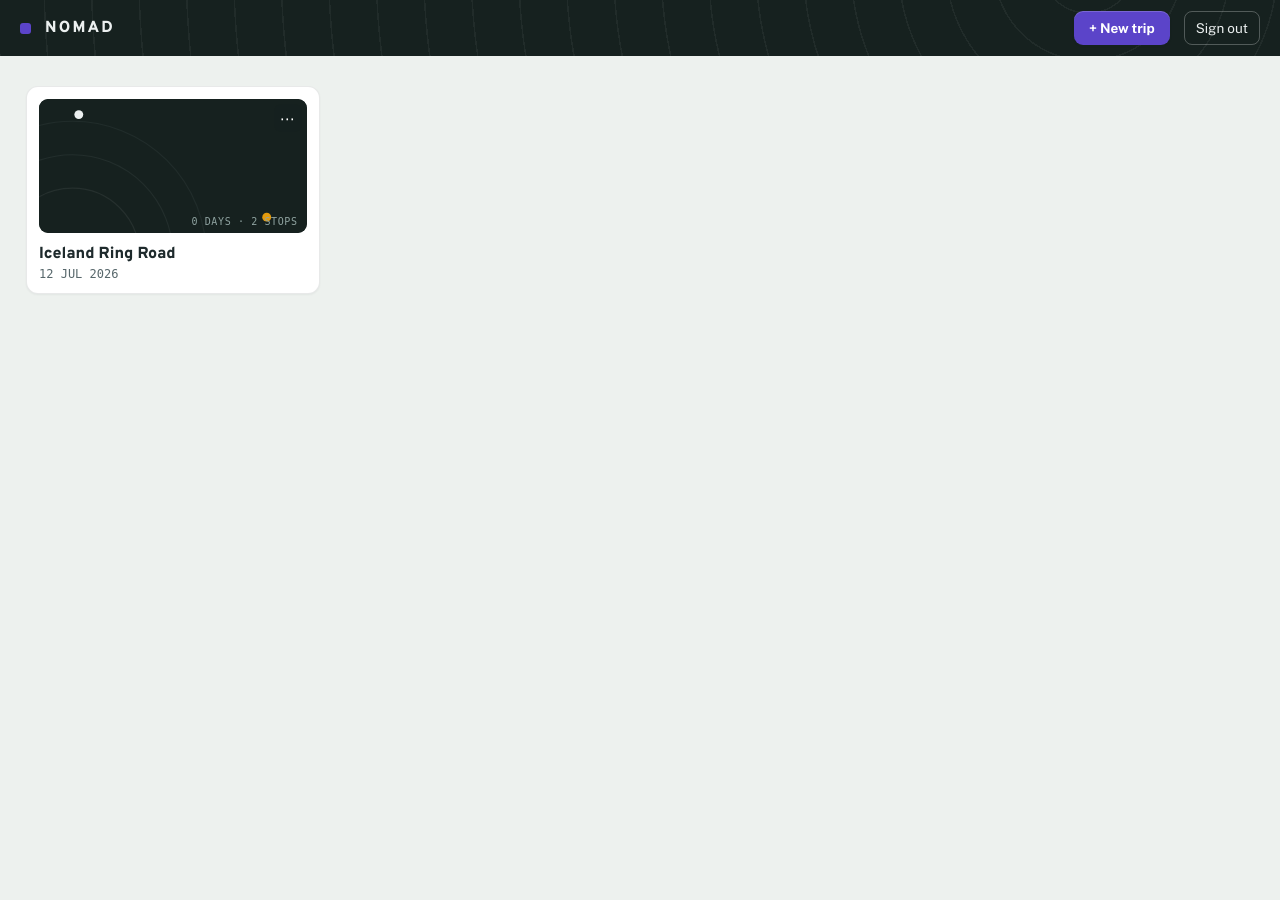
Scenario: TripList › cancel closes the dialog without deleting
This screenshot has width=1280, height=900.
Click the button named "Trip actions" at point(288, 118), box [274, 104, 302, 132]
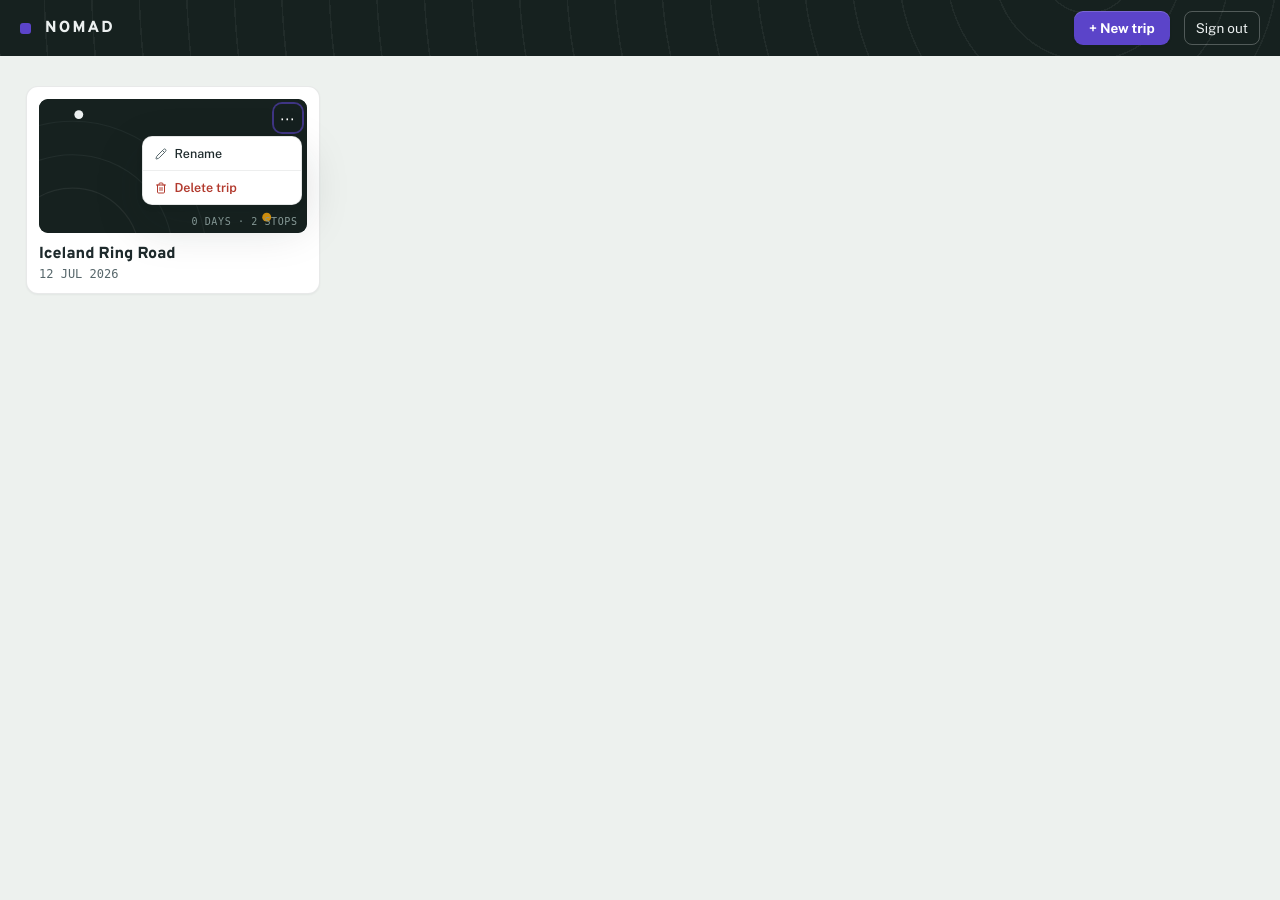
Click the button "Delete trip" at point(222, 187), box [142, 170, 300, 204]
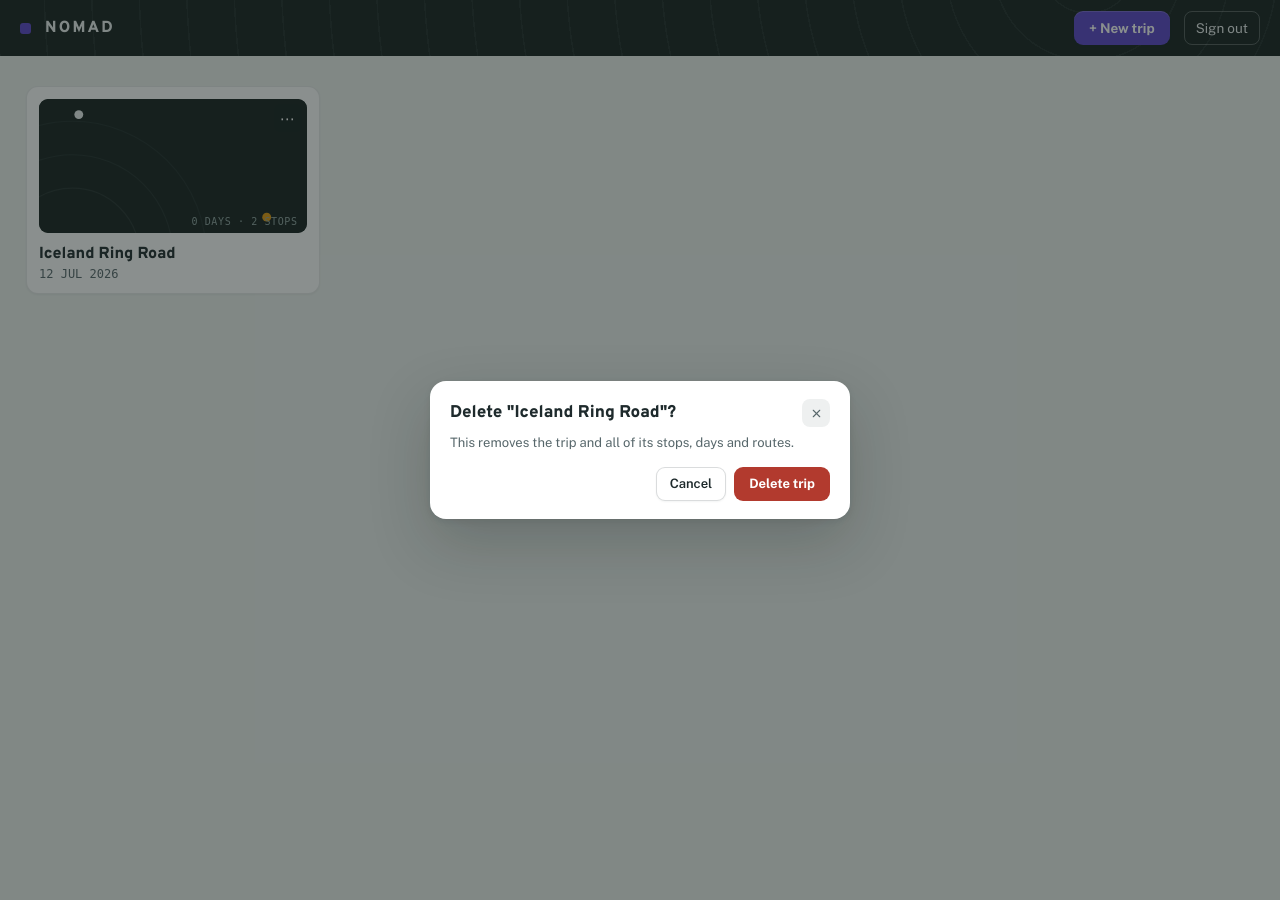
Click the button "Cancel" at point(691, 484), box [656, 467, 726, 501]
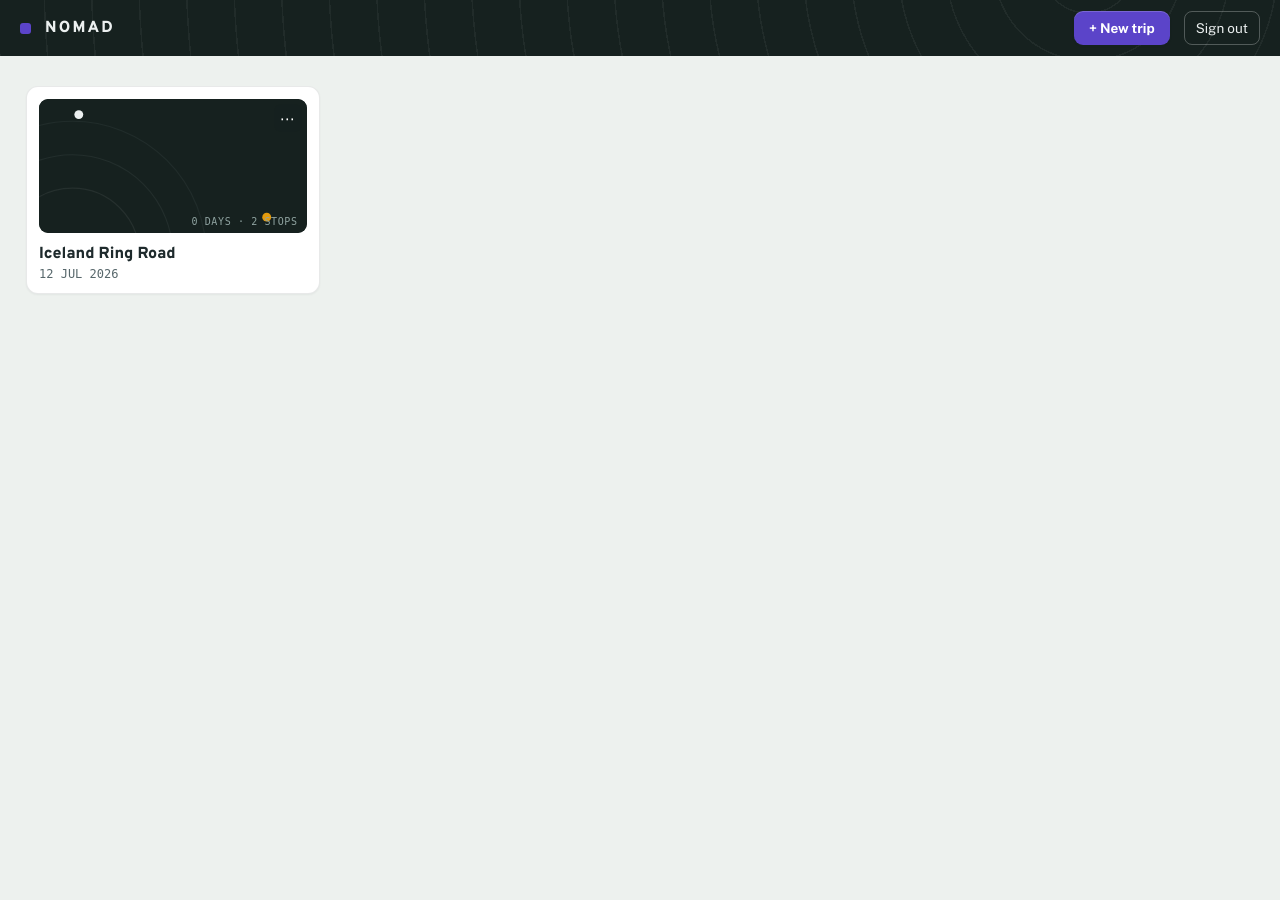
Check: the dialog is gone
